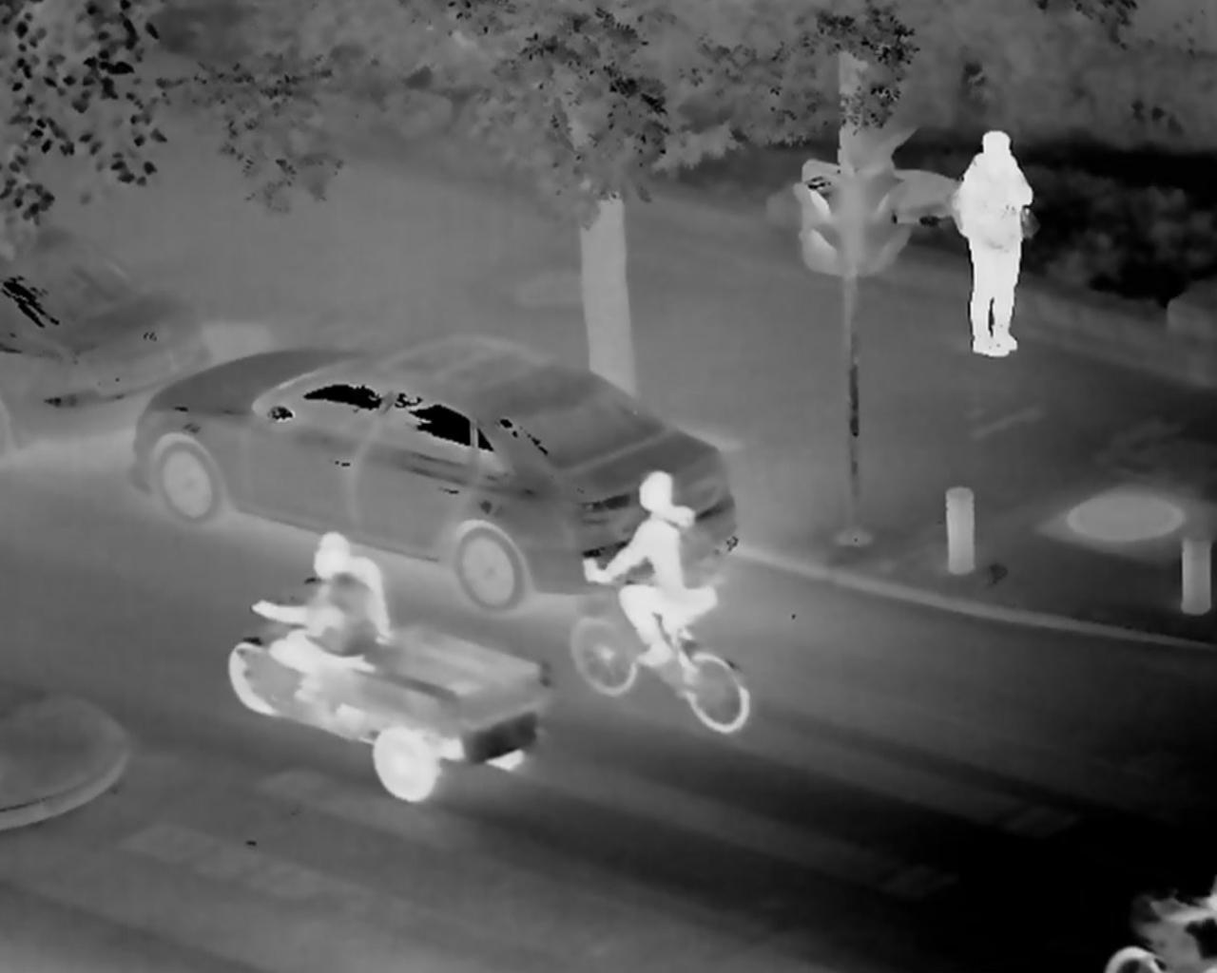person: (586, 469, 727, 693), (246, 525, 396, 717), (948, 124, 1048, 362)
